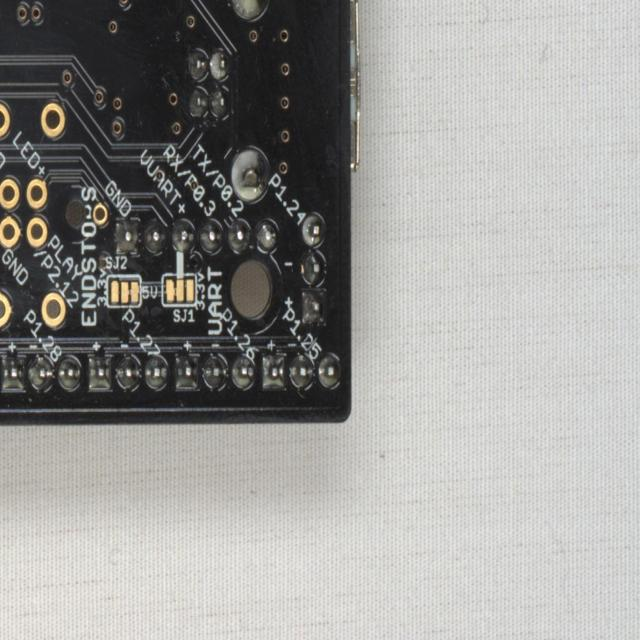connector: (0, 174, 48, 249), (0, 98, 66, 138), (0, 289, 66, 328)
pads: (106, 273, 142, 308), (160, 271, 196, 305)
pins: (0, 351, 341, 394), (113, 218, 279, 255), (185, 44, 232, 122), (298, 210, 326, 327), (227, 142, 271, 205), (228, 0, 272, 23)
test point: (92, 201, 107, 227)
